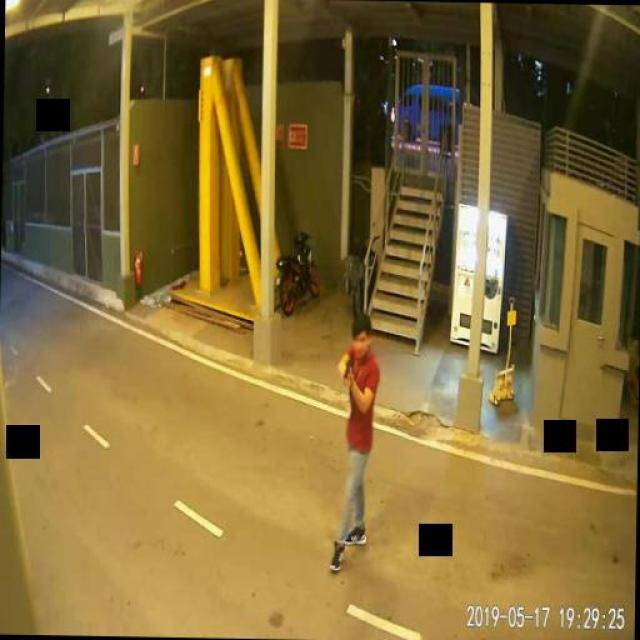gun: (342, 356, 352, 384)
